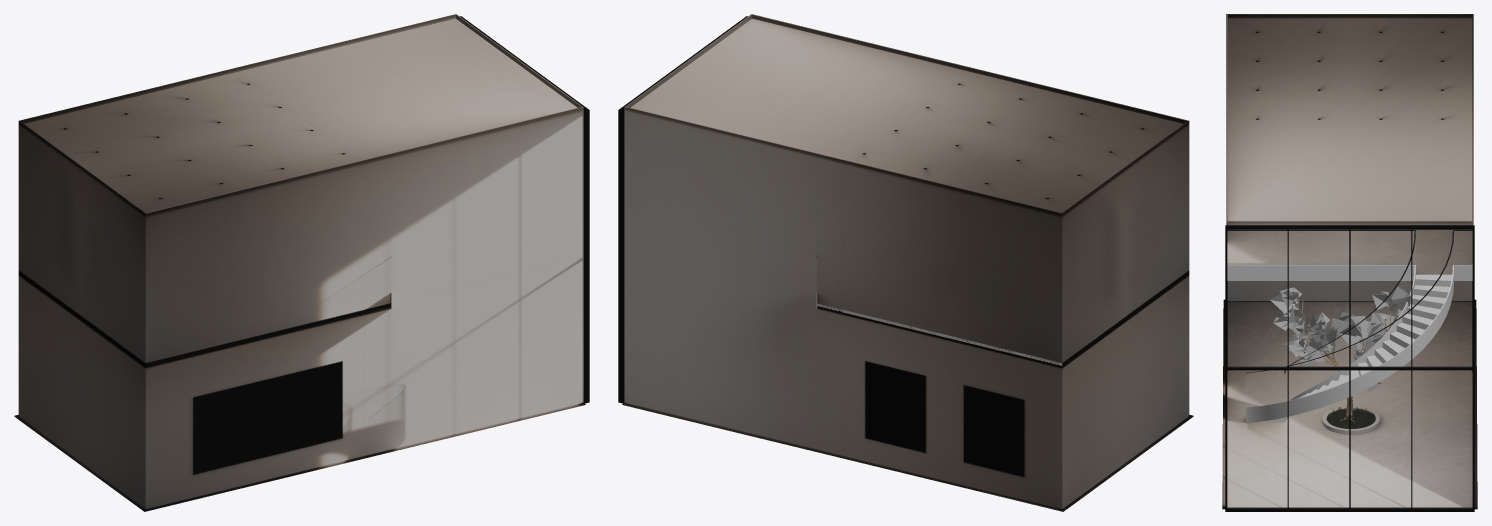
The model's file is stairs_gallery.fbx.
3 renders of one model, left to right at view 1: azimuth 30°, elevation 25°; view 2: azimuth 150°, elevation 25°; view 3: azimuth 270°, elevation 25°, orthographic. The views are drawn at different scales.
Parts seen in each view (by area): view 1: walls, steel; view 2: walls, steel; view 3: walls, floor, glass, stairs, steel, leaf, tree.
Boxes of the visible parts, box(x1,y1,x2,y2) form: walls: box(14, 14, 587, 511); steel: box(460, 16, 589, 403); walls: box(619, 14, 1193, 511); steel: box(618, 16, 816, 403); walls: box(1222, 14, 1477, 508); floor: box(1222, 229, 1477, 509); glass: box(1228, 231, 1471, 407); stairs: box(1227, 265, 1472, 423); steel: box(1225, 225, 1474, 511); leaf: box(1270, 286, 1410, 392); tree: box(1289, 300, 1391, 423).
Size of the model in its own units: 478 by 312 by 244.
